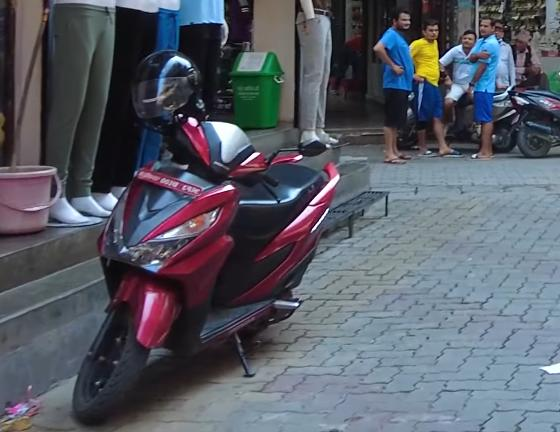scooter: (68, 94, 356, 428)
